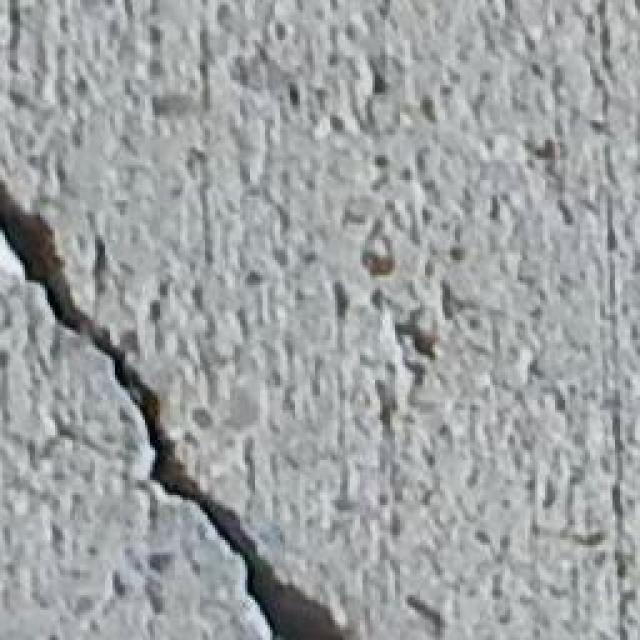concrete-crack: (1, 183, 349, 640)
